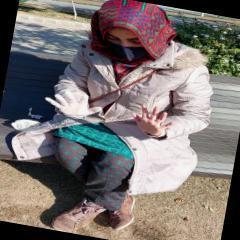gloved: (45, 90, 106, 123)
not-gloved: (130, 103, 178, 140)
